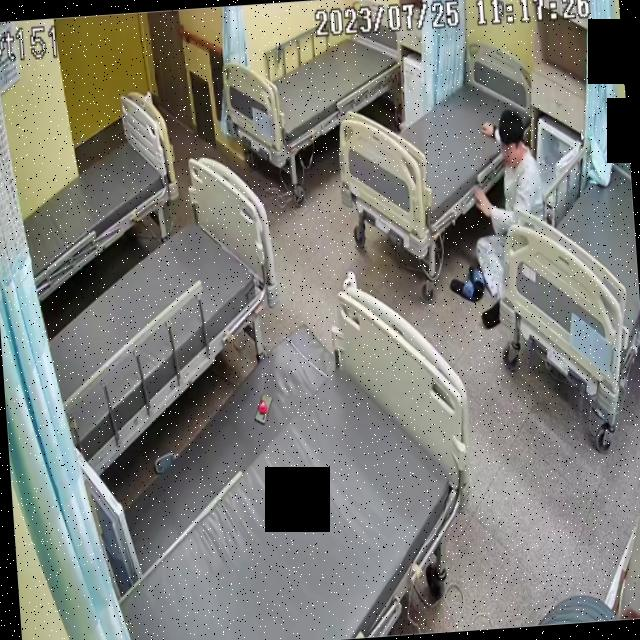bed: (97, 289, 474, 640), (32, 158, 284, 467), (491, 119, 640, 421), (331, 46, 538, 241), (12, 88, 184, 296), (223, 11, 406, 168)
fall: (466, 106, 548, 320)
patient: (465, 100, 548, 322)
